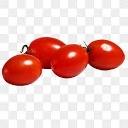tomato: (51, 42, 89, 78), (28, 37, 68, 69), (2, 55, 42, 84), (86, 40, 126, 69)
